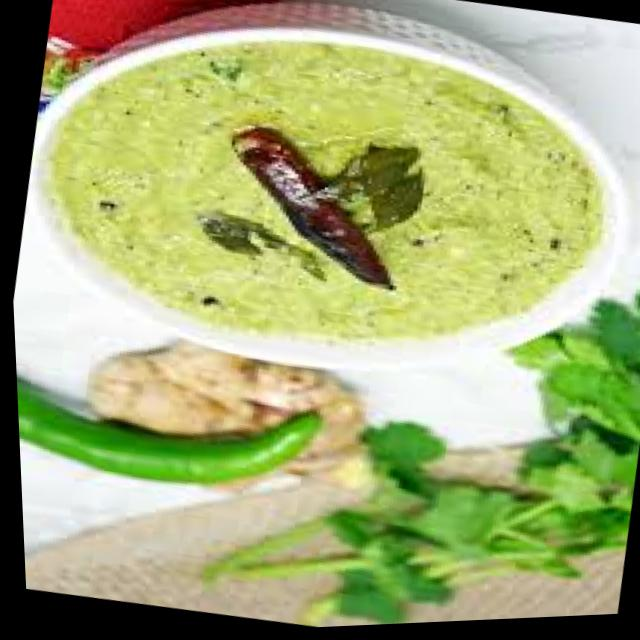GREEN CHUTNEY: (59, 40, 606, 332)
